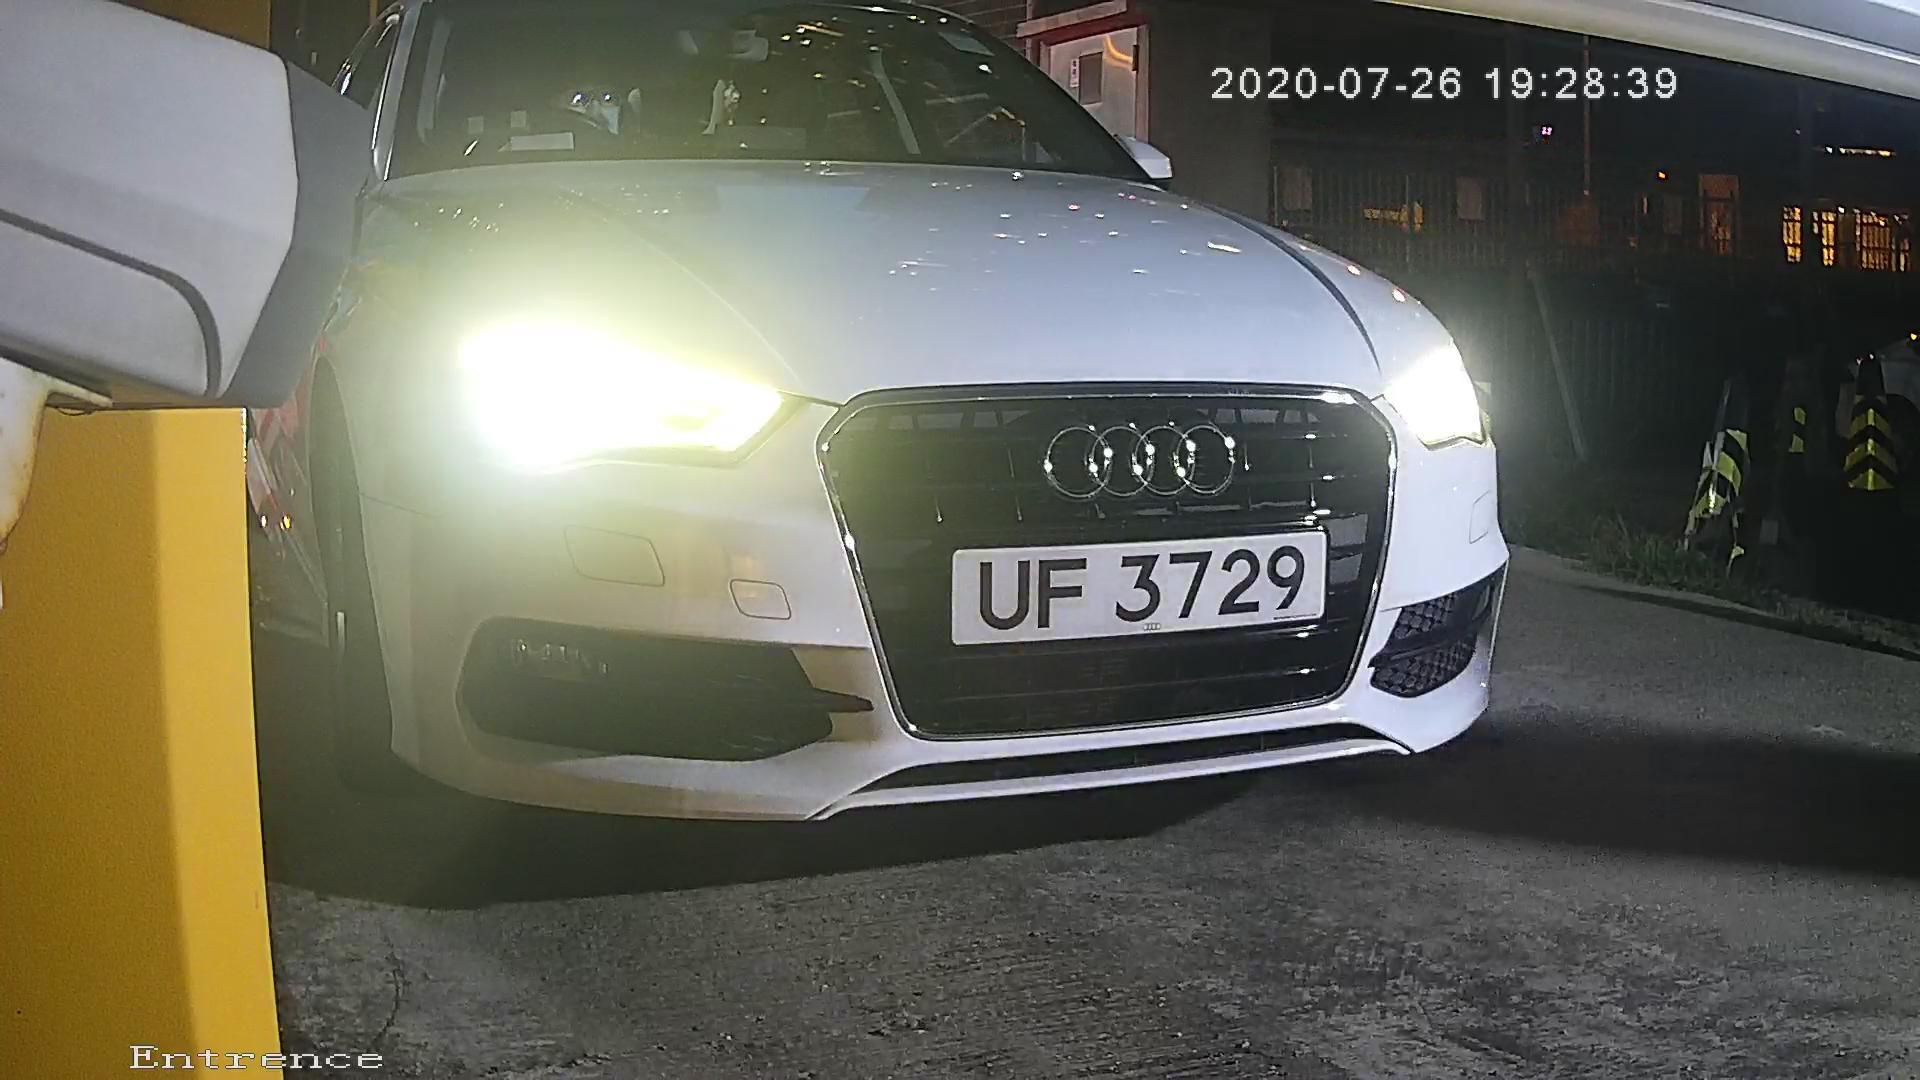Car: (129, 78, 1578, 859)
License Plate: (909, 526, 1355, 647)
